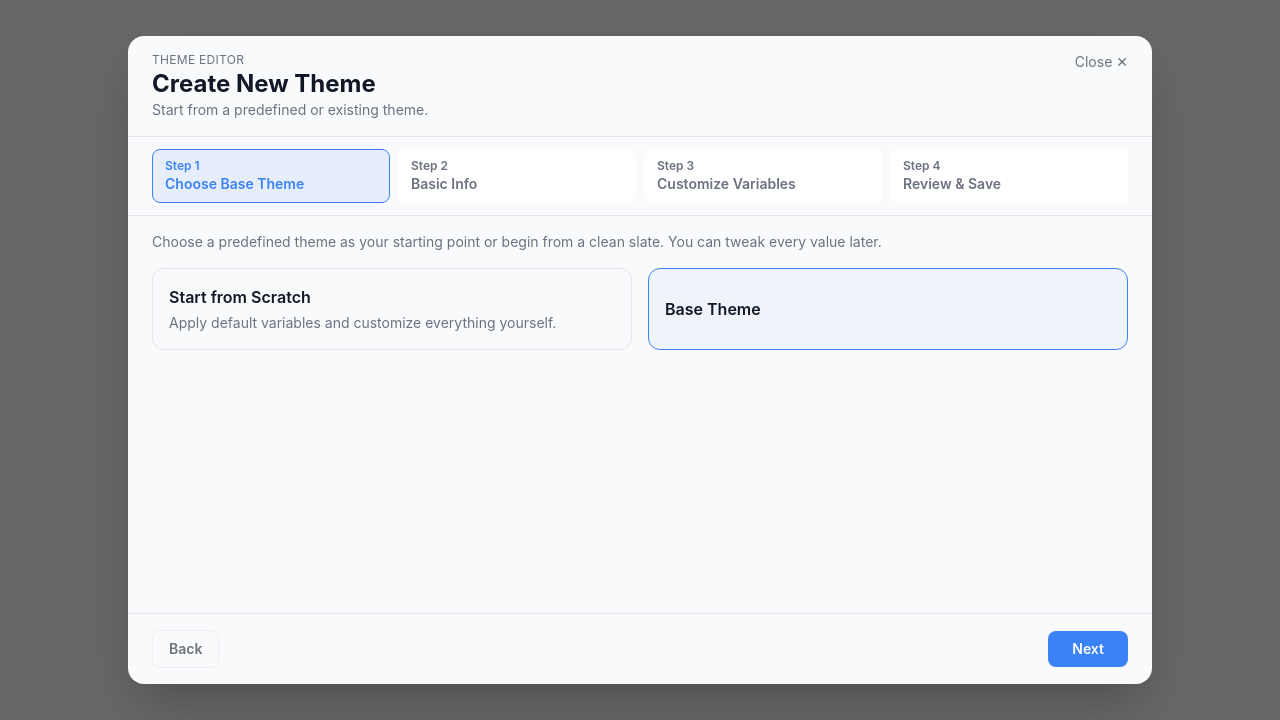
Scenario: ThemeEditor integration › shows translated validation error when info step is incomplete
Step 1. Click the button "Next" → {"x": 1088, "y": 649}, box [1048, 631, 1128, 667]
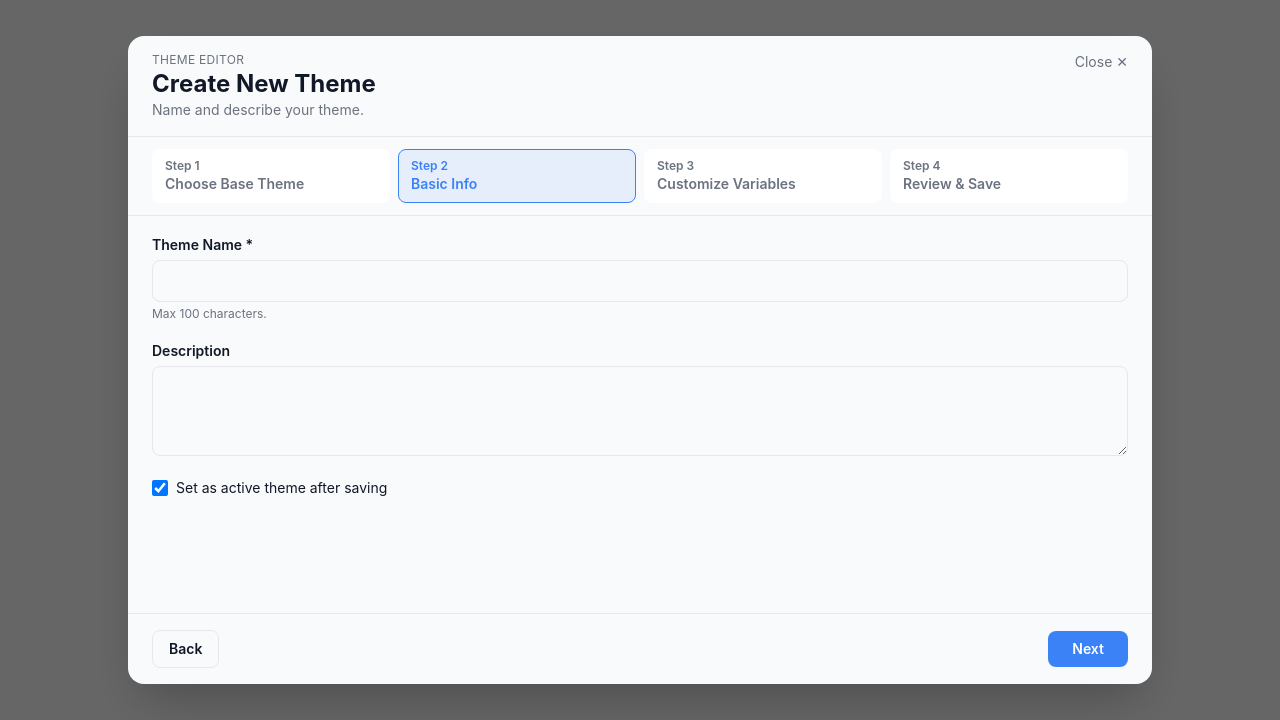
Step 2. Click the button "Next" → {"x": 1088, "y": 649}, box [1048, 631, 1128, 667]
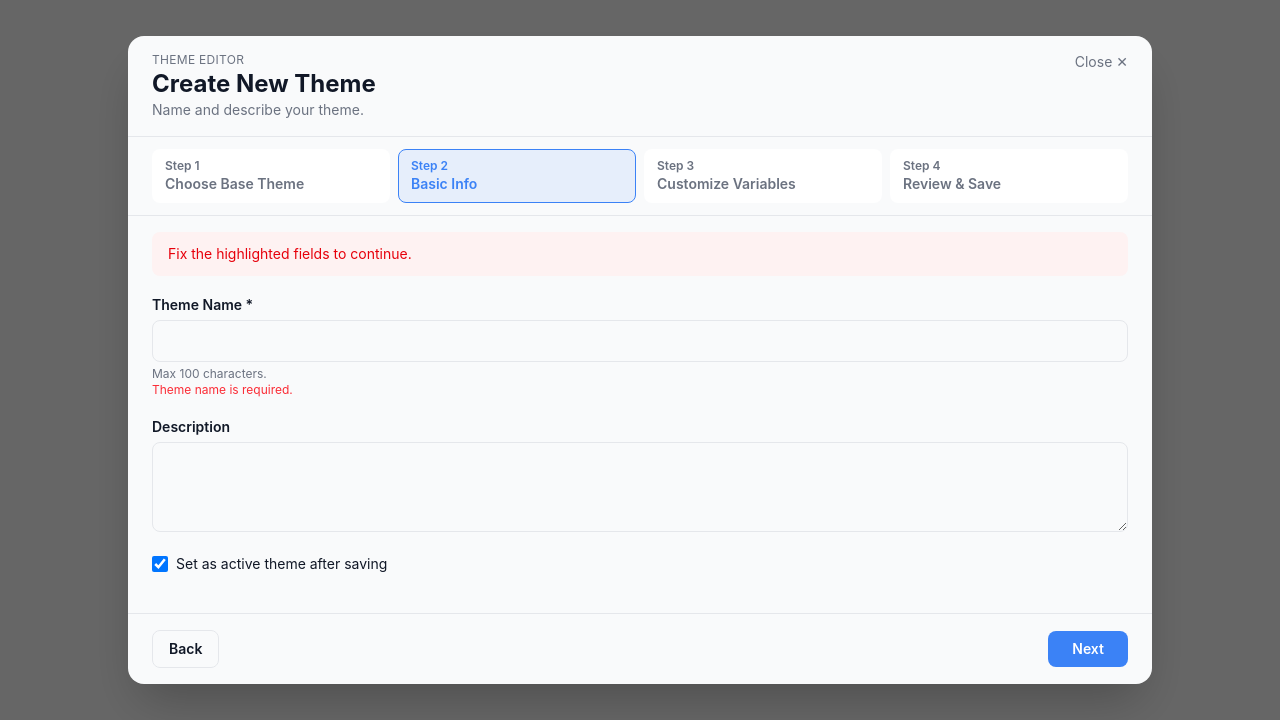
Result: the message reads "Fix the highlighted fields to continue." at [168, 245, 412, 262]
